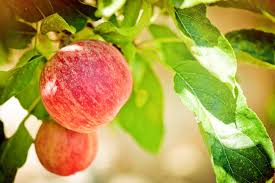apple: (40, 42, 132, 125), (30, 118, 101, 179)
